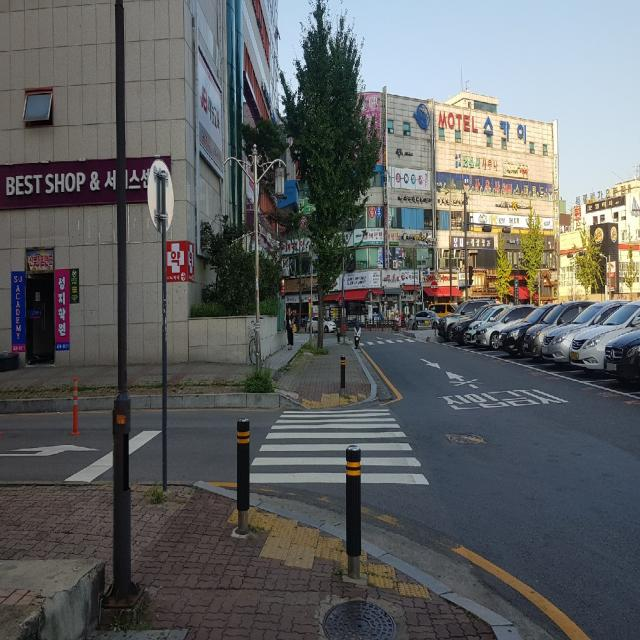횡단보도: (249, 409, 430, 487)
